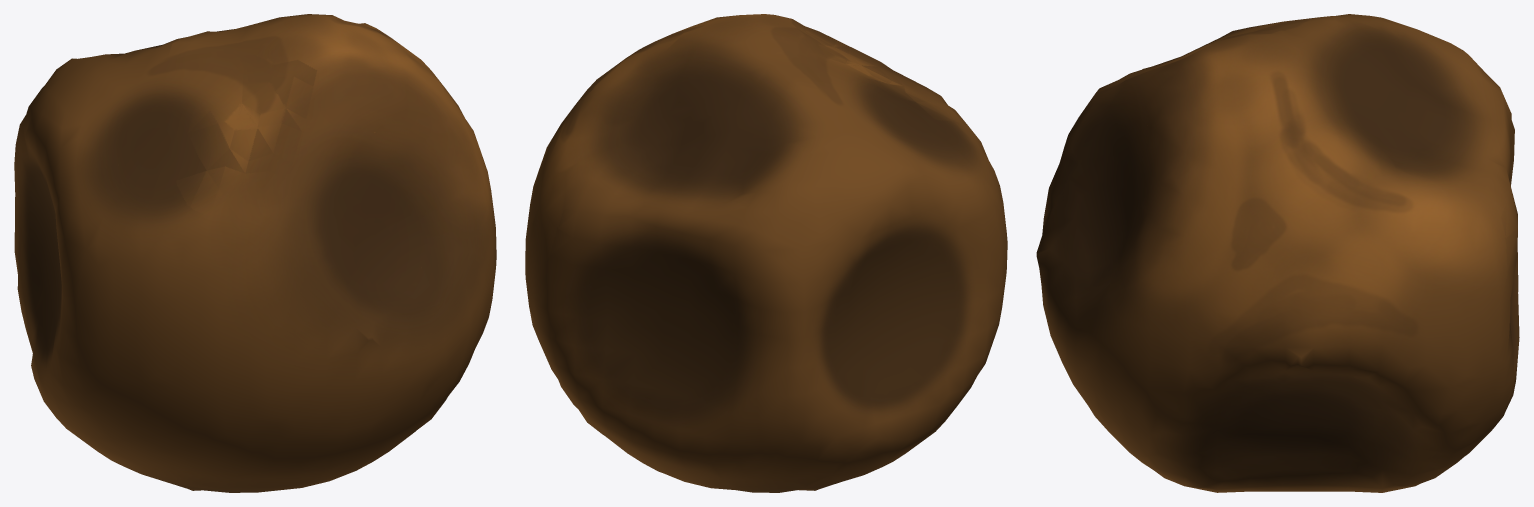
File: Rock.fbx
3 views of the same model, side by side, from view 1: azimuth 30°, elevation 25°; view 2: azimuth 150°, elevation 25°; view 3: azimuth 270°, elevation 25° (orthographic). The views are drawn at different scales.
Parts seen in each view (by area): view 1: Icosphere; view 2: Icosphere; view 3: Icosphere.
Boxes of the visible parts, box(x1,y1,x2,y2) form: Icosphere: box(14, 14, 496, 492); Icosphere: box(525, 14, 1007, 492); Icosphere: box(1036, 14, 1519, 492).
Size of the model in its own units: 179 by 169 by 168.
Materials: 1 (1 with a texture image).
